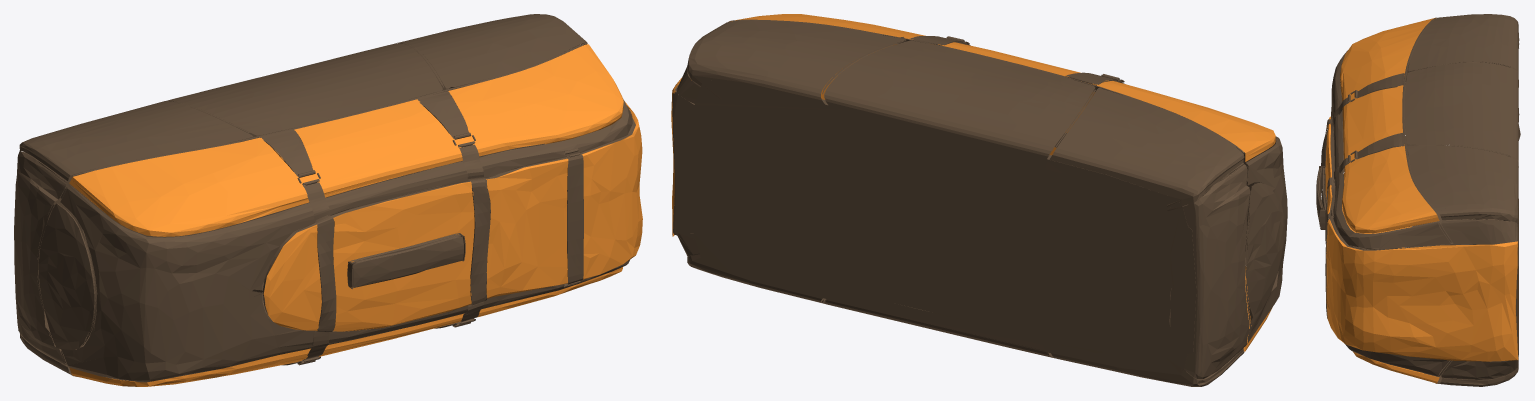
3 views of the same model, side by side, from view 1: azimuth 30°, elevation 25°; view 2: azimuth 150°, elevation 25°; view 3: azimuth 270°, elevation 25° (orthographic). The views are drawn at different scales.
Parts seen in each view (by area): view 1: bag; view 2: bag; view 3: bag.
Boxes of the visible parts, box(x1,y1,x2,y2) form: bag: box(14, 14, 642, 386); bag: box(671, 14, 1287, 386); bag: box(1316, 14, 1520, 386).
Size of the model in its own units: 19.18 by 7.93 by 7.72.
